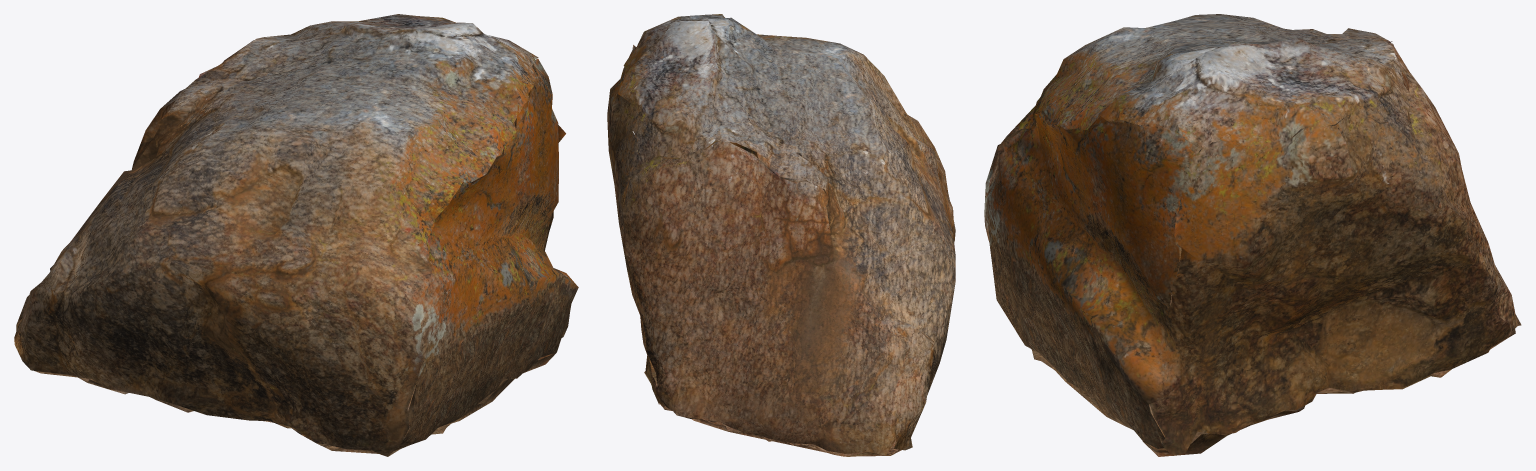
File: namaqualand_boulder_04_LOD2.fbx
3 views of the same model, side by side, from view 1: azimuth 30°, elevation 25°; view 2: azimuth 150°, elevation 25°; view 3: azimuth 270°, elevation 25° (orthographic). The views are drawn at different scales.
Parts seen in each view (by area): view 1: namaqualand_boulder_04.001; view 2: namaqualand_boulder_04.001; view 3: namaqualand_boulder_04.001.
Boxes of the visible parts, x1,y1,x2,y2 form: namaqualand_boulder_04.001: (14,14,578,456); namaqualand_boulder_04.001: (607,14,955,456); namaqualand_boulder_04.001: (984,14,1521,456).
Size of the model in its own units: 2.55 by 1.89 by 2.51.
Materials: 1 (1 with a texture image).
